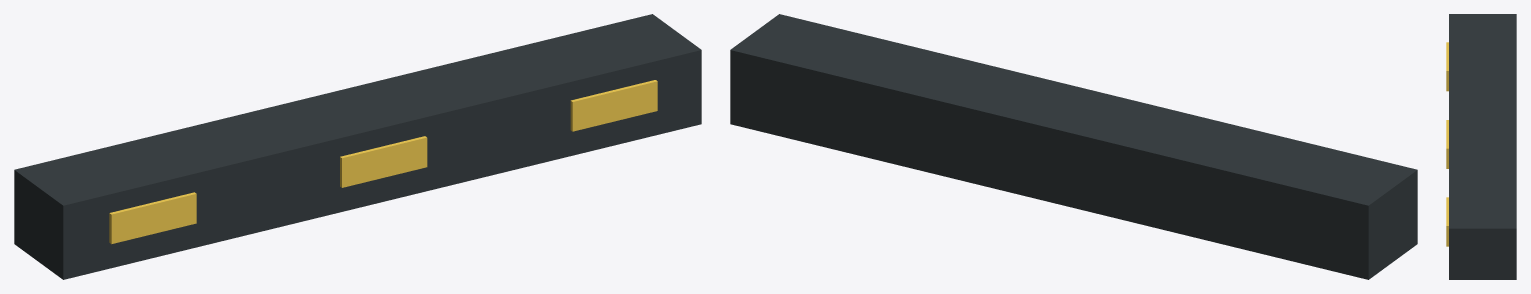
The model's file is TK_WheelStop_1p8.fbx.
The picture shows the model from 3 angles, left to right: view 1: azimuth 30°, elevation 25°; view 2: azimuth 150°, elevation 25°; view 3: azimuth 270°, elevation 25°; orthographic projection. The views are drawn at different scales.
Parts seen in each view (by area): view 1: WheelStop, Reflector, Reflector.001, Reflector.002; view 2: WheelStop; view 3: WheelStop, Reflector, Reflector.002, Reflector.001.
Boxes of the visible parts, left/top/right/bottom form: WheelStop: left=14, top=14, right=701, bottom=279; Reflector: left=109, top=192, right=196, bottom=244; Reflector.001: left=340, top=136, right=427, bottom=187; Reflector.002: left=570, top=80, right=657, bottom=131; WheelStop: left=730, top=14, right=1417, bottom=279; WheelStop: left=1449, top=14, right=1516, bottom=279; Reflector: left=1446, top=42, right=1448, bottom=91; Reflector.002: left=1446, top=197, right=1448, bottom=246; Reflector.001: left=1446, top=120, right=1448, bottom=168.
Size of the model in its own units: 1.8 by 0.2 by 0.25.
